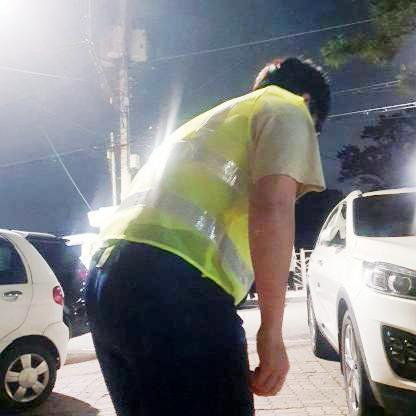no-helmet: (260, 54, 336, 120)
vest: (103, 83, 318, 298)
